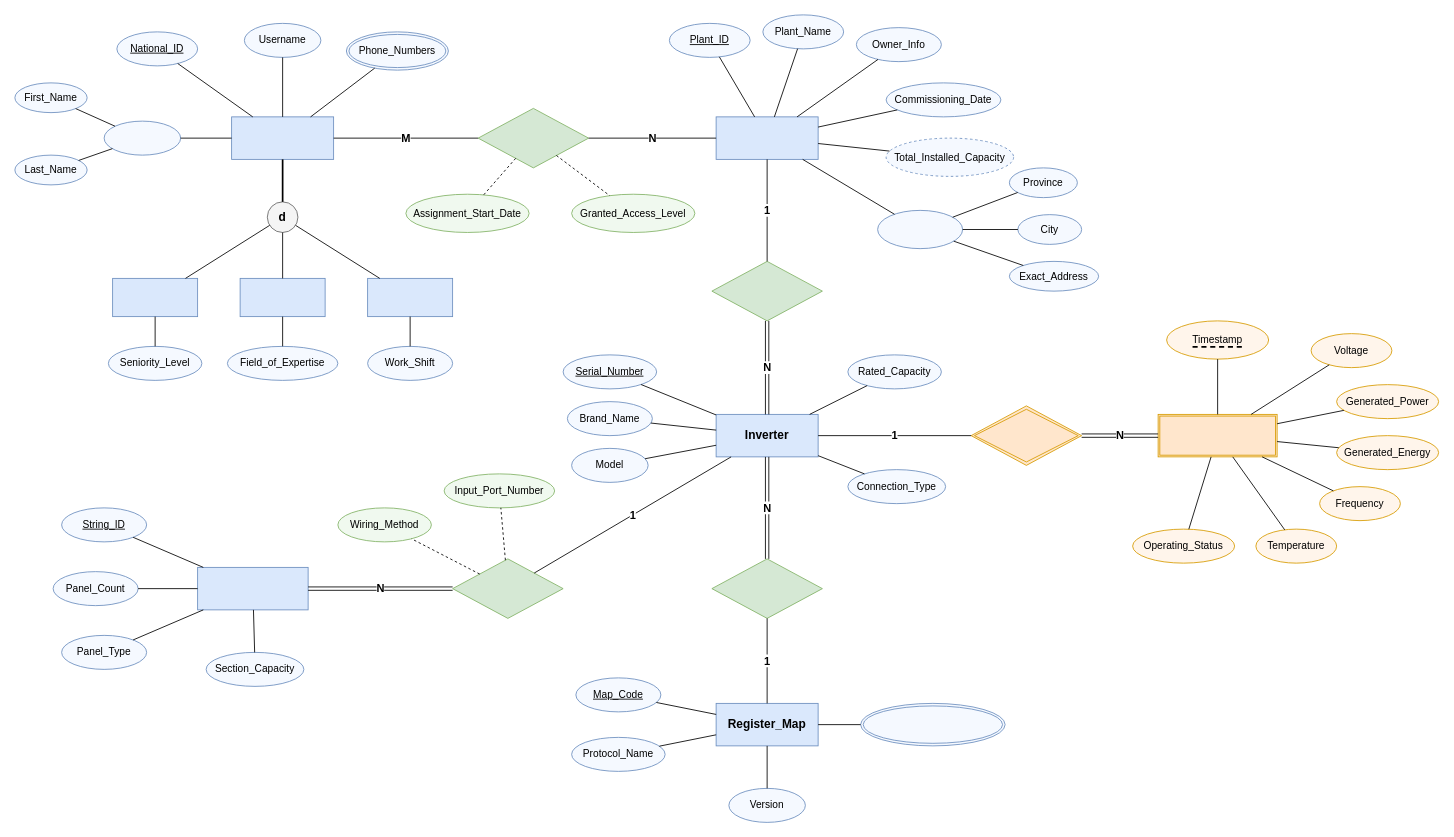
This 1454x837 diagram has some shape labels left out. Here are the shapes that lost their labels. From the top down, the centre of each, then its label:
At (142,137): "Full_Name".
At (282,137): "User".
At (533,138): "is assigned to".
At (766,137): "Power_Plant".
At (920,229): "Location".
At (155,297): "Admin".
At (282,297): "Expert".
At (410,297): "Operator".
At (766,291): "are deployed in".
At (1026,435): "is logged by".
At (1217,435): "Performance_Data".
At (252,588): "Panel_String".
At (507,588): "connects to".
At (766,588): "follows".
At (932,724): "Communication_Parameters".
